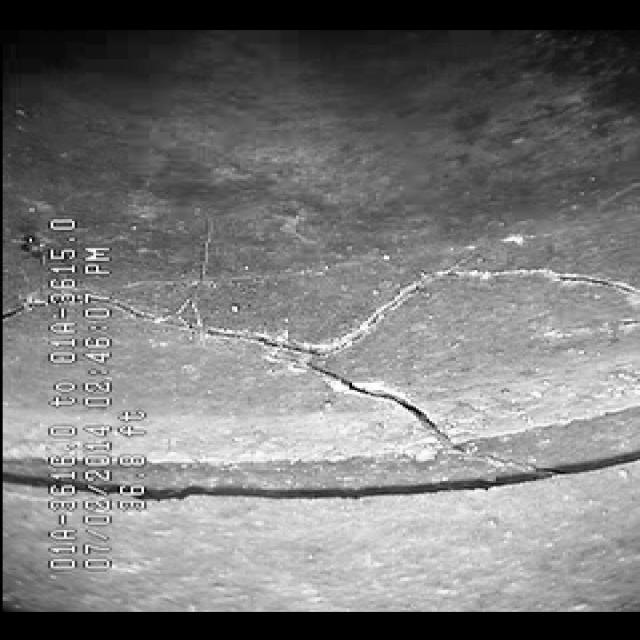Crack: (197, 248, 596, 454)
